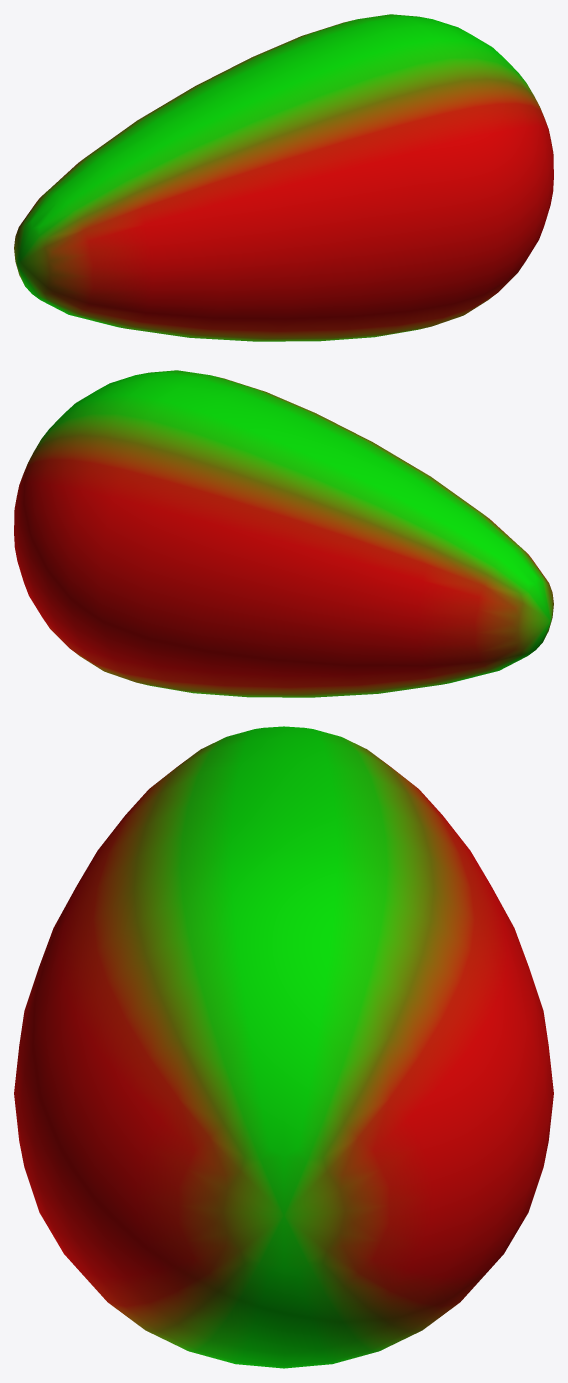
File: SM_HP_Droplet_02.FBX
3 renders of one model, top to bottom at view 1: azimuth 30°, elevation 25°; view 2: azimuth 150°, elevation 25°; view 3: azimuth 270°, elevation 25°, orthographic. The views are drawn at different scales.
Parts seen in each view (by area): view 1: SM_HP_Droplet_02; view 2: SM_HP_Droplet_02; view 3: SM_HP_Droplet_02.
Part boxes in pixels (x1,y1,x2,y2): SM_HP_Droplet_02: (14, 14, 553, 341); SM_HP_Droplet_02: (14, 370, 553, 697); SM_HP_Droplet_02: (14, 726, 553, 1368).
Bounding box in the file's own units: 20.87 × 11.09 × 11.09.
